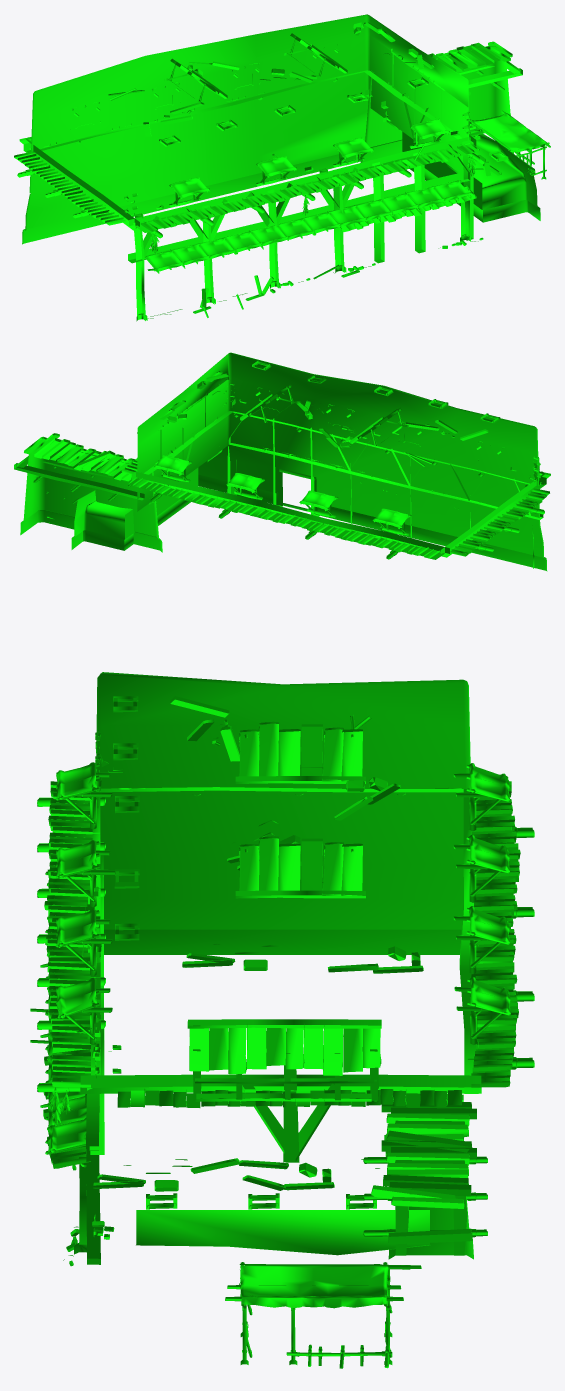
Rendered from jz_xb玉门关建筑002_005sw_hd.glb.
The picture shows the model from 3 angles, top to bottom: view 1: azimuth 30°, elevation 25°; view 2: azimuth 150°, elevation 25°; view 3: azimuth 270°, elevation 25°; orthographic projection. The views are drawn at different scales.
Size of the model in its own units: 4859 by 1696 by 2295.
